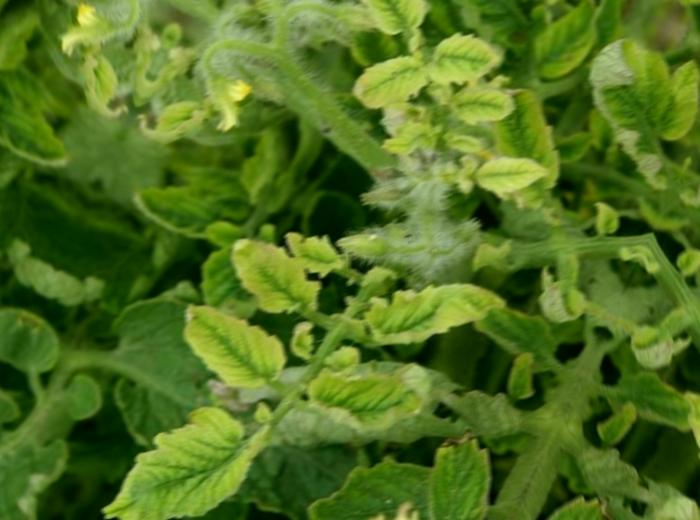Tomato leaf yellow virus: (93, 371, 282, 520), (351, 239, 522, 395), (290, 330, 455, 468), (162, 292, 298, 398), (420, 9, 544, 115), (331, 28, 446, 136), (198, 228, 320, 322), (307, 0, 481, 57), (470, 133, 566, 224)
